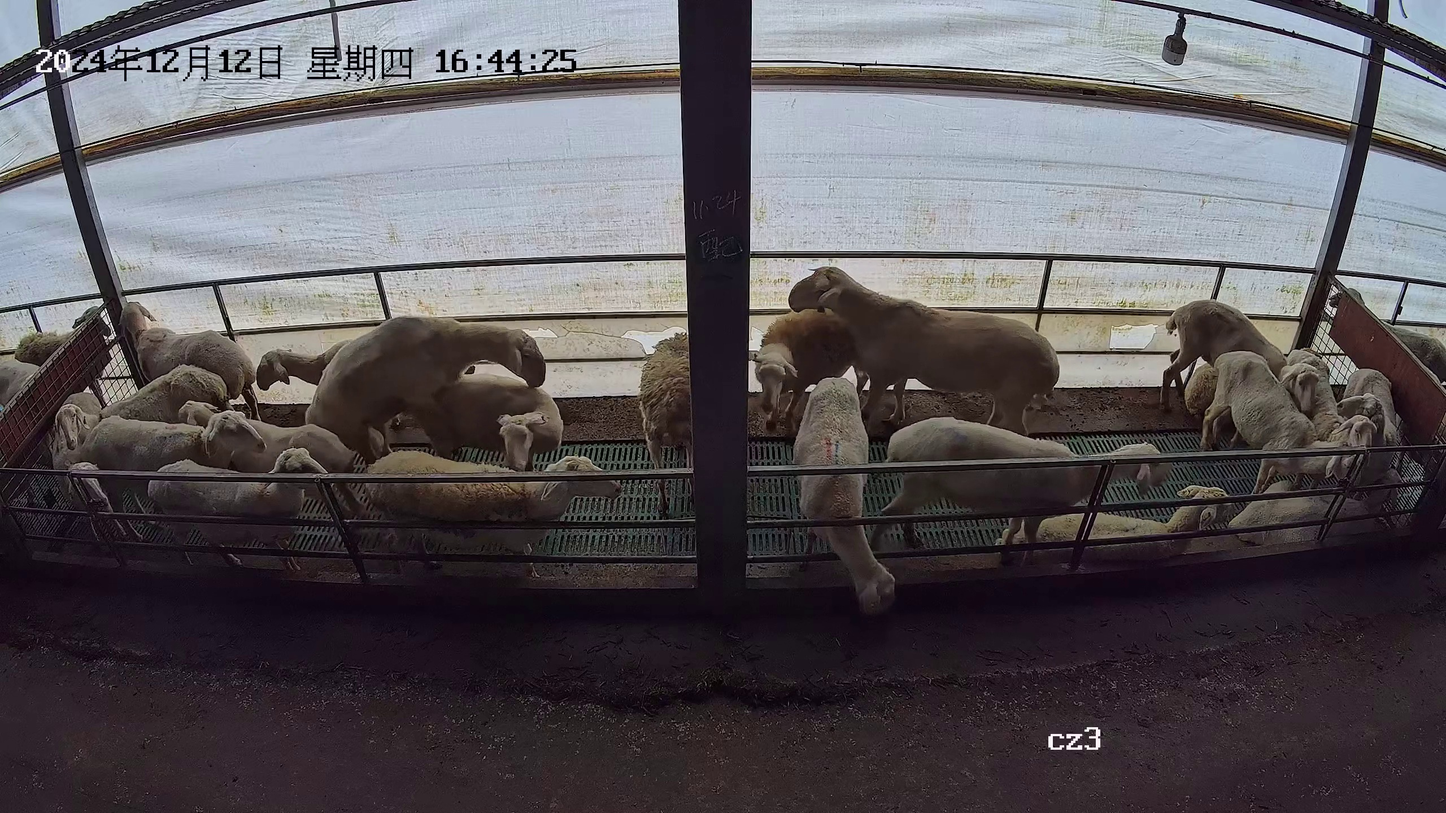Smounting: (303, 312, 567, 475)
mounted: (420, 368, 564, 472)
